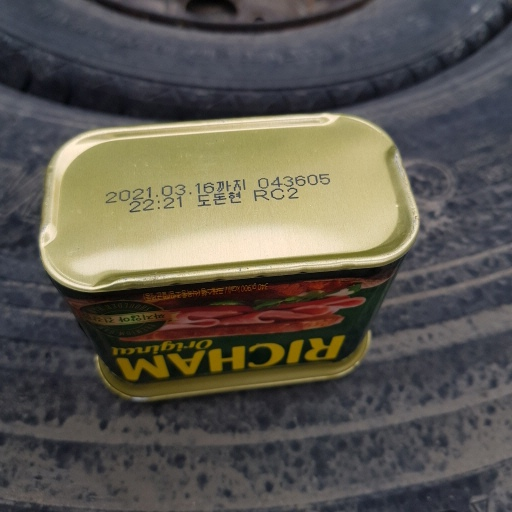Metal_2: (37, 110, 419, 397)
